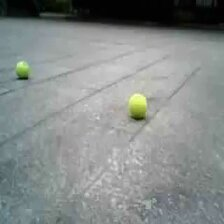tennis: (129, 95, 148, 120), (16, 62, 29, 79)
